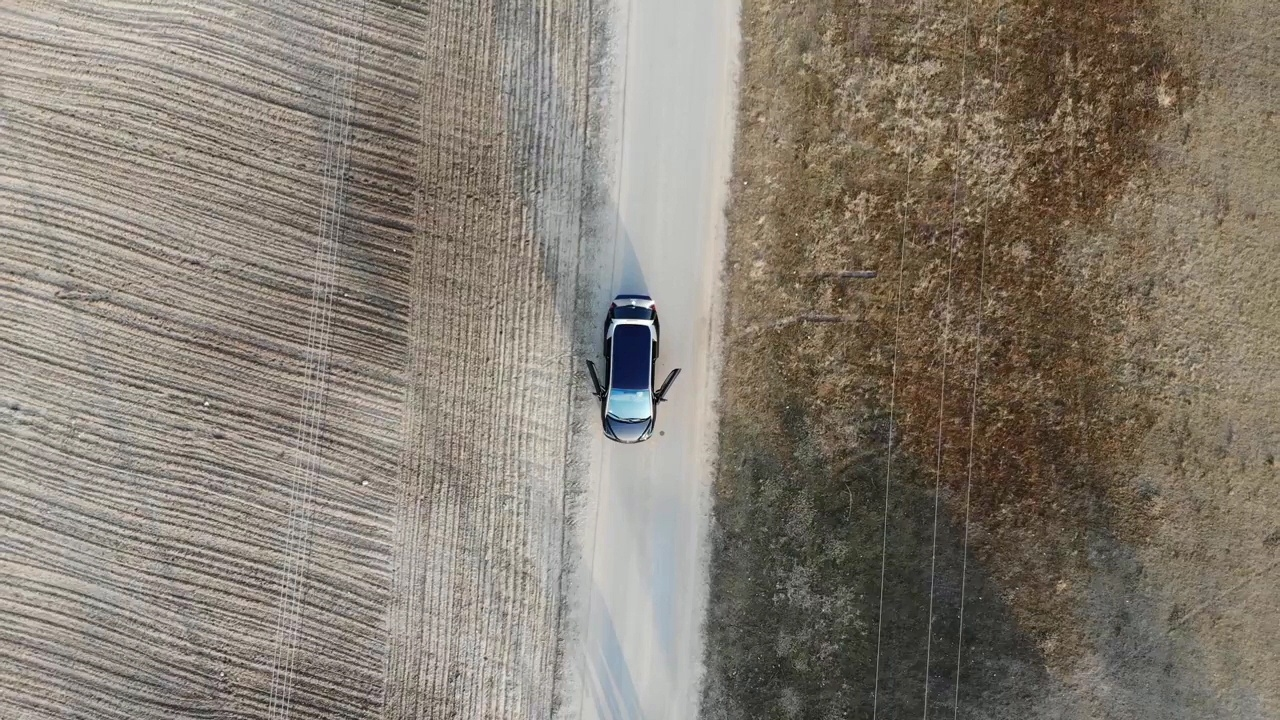araba: (598, 312, 659, 444)
